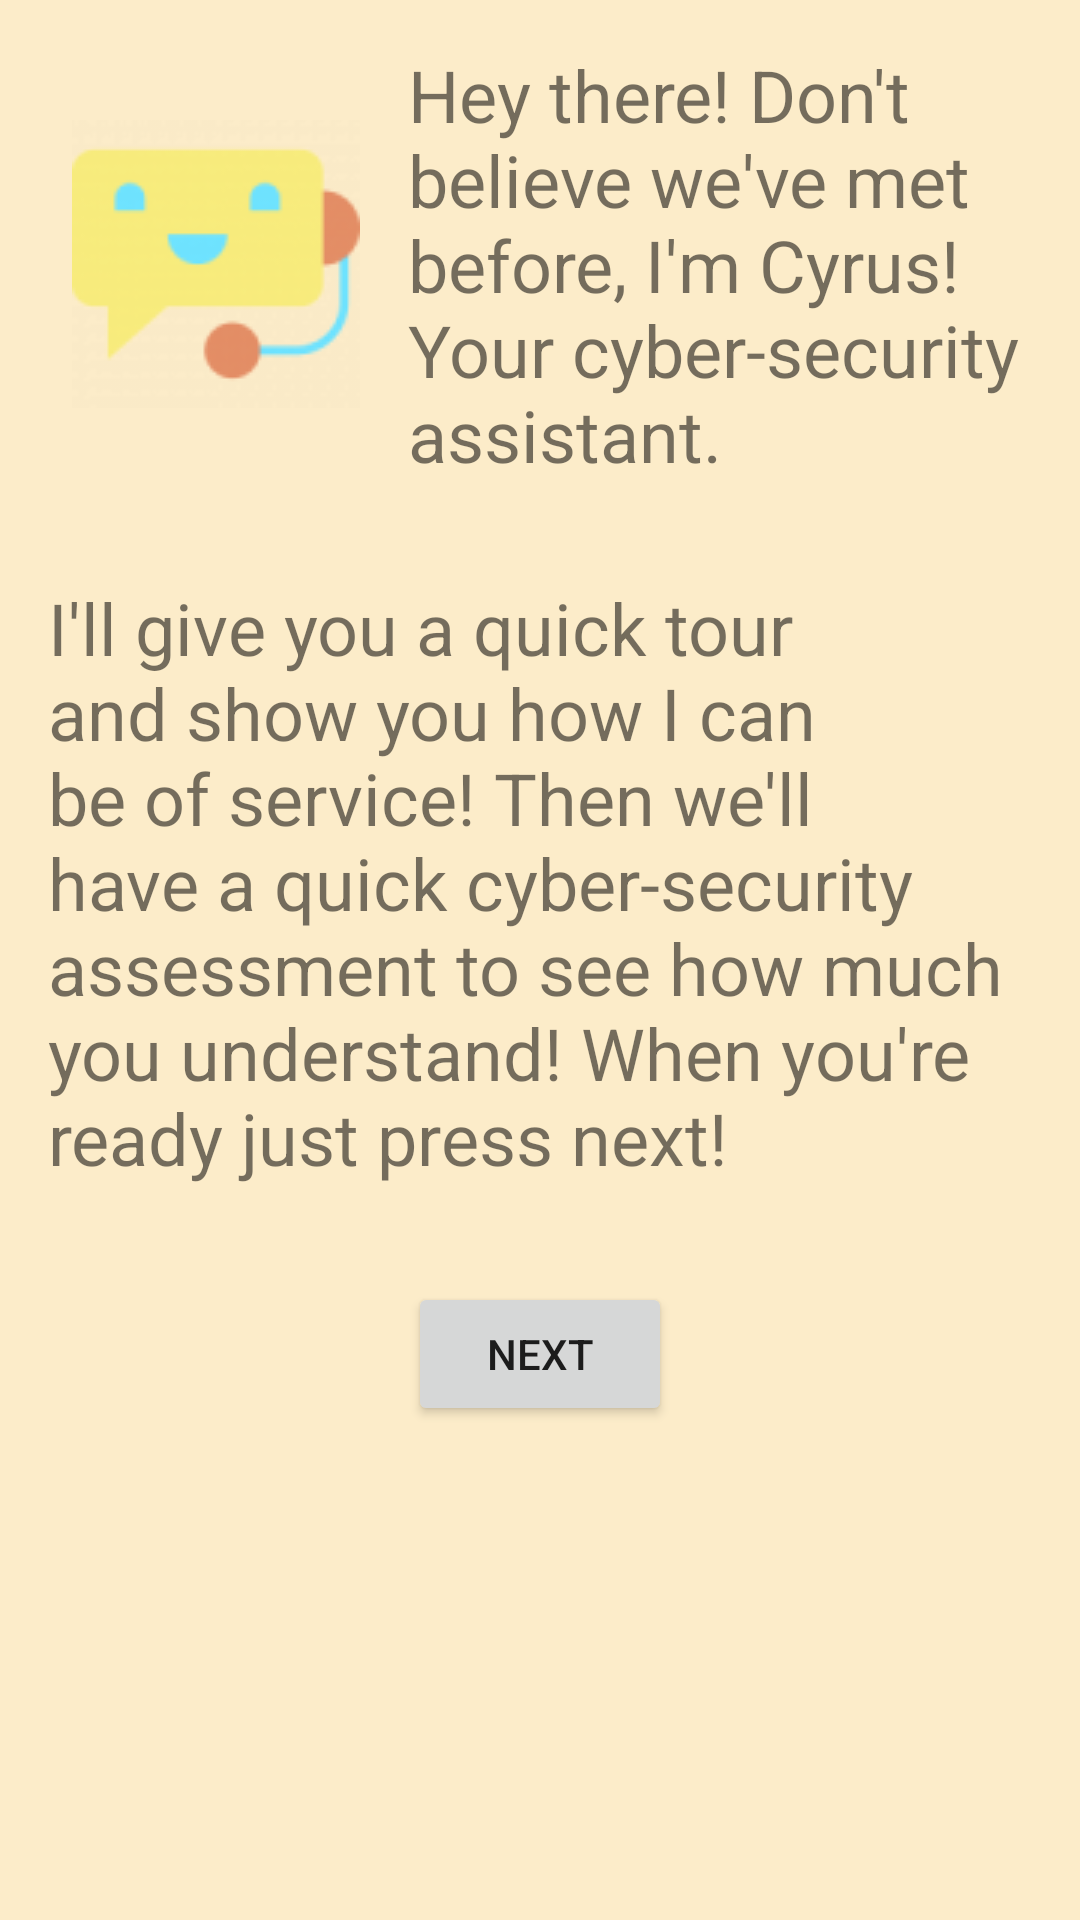

Point at icon controls on the screen. Image size 1080*1920, points as point (x, y).
chat: point (216, 264)
